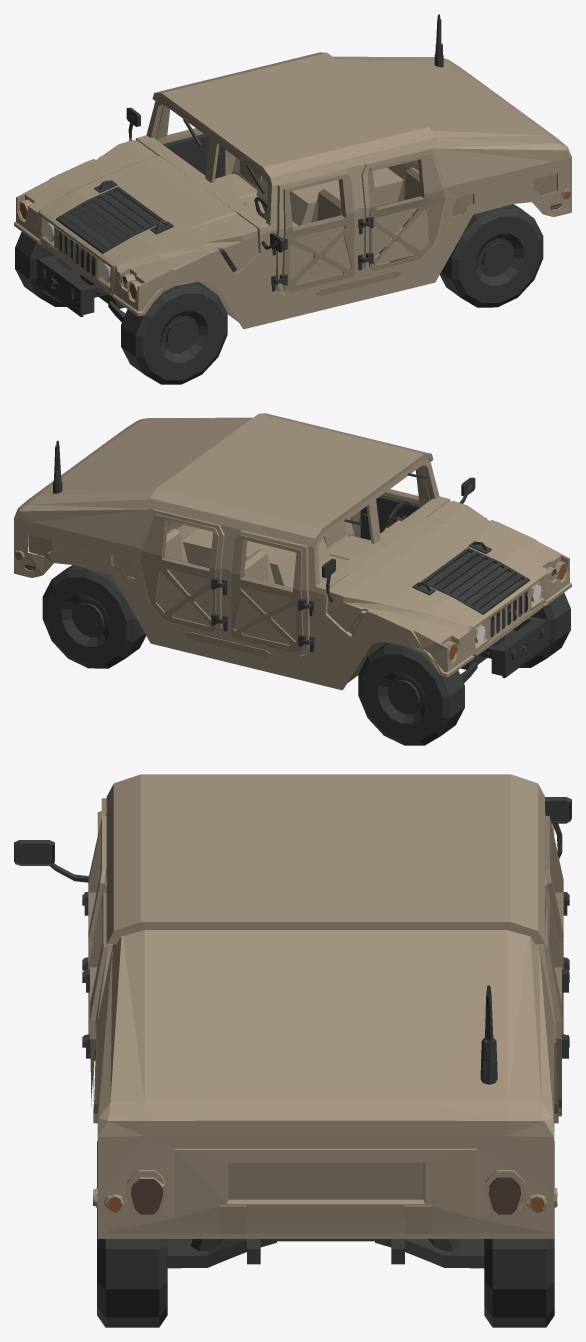
The model's file is humvee_A.glb.
3 views of the same model, one above another, from view 1: azimuth 30°, elevation 25°; view 2: azimuth 150°, elevation 25°; view 3: azimuth 270°, elevation 25° (orthographic). The views are drawn at different scales.
Parts seen in each view (by area): view 1: world; view 2: world; view 3: world.
Part boxes in pixels (box(x1,y1,x2,y2)): world: box(14, 14, 571, 384); world: box(14, 413, 571, 745); world: box(14, 774, 571, 1327).
Size of the model in its own units: 4.67 by 2 by 2.7.
1 material, 1 textured.
